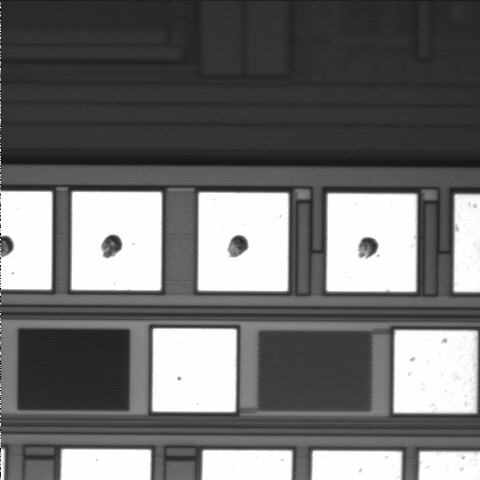pad: (72, 192, 162, 290), (198, 193, 288, 291), (327, 194, 417, 292), (153, 329, 236, 412), (394, 330, 477, 413)
